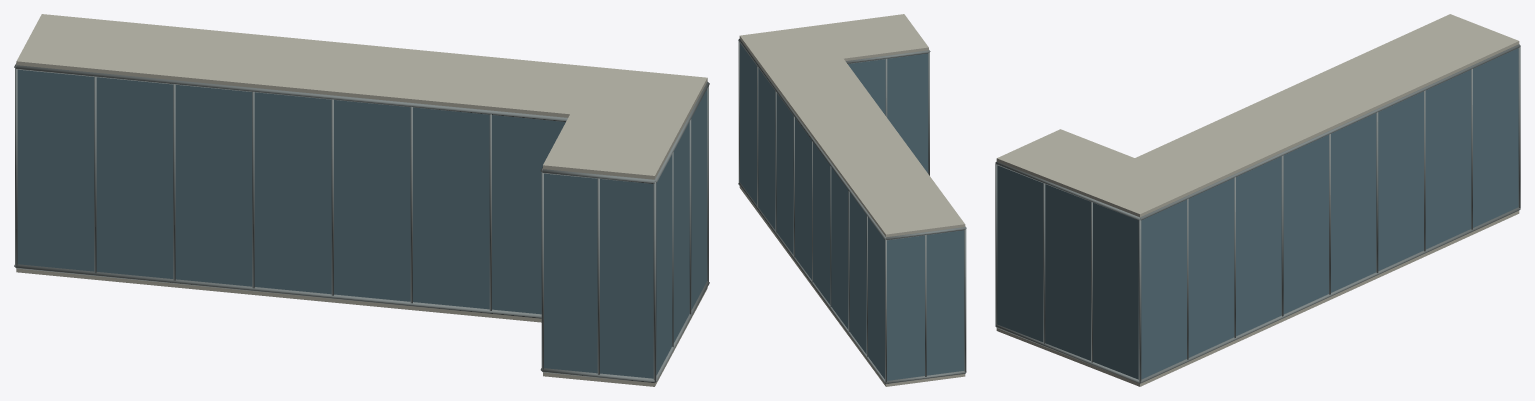
Rendered from connector-v2-v3-lod2.glb.
The picture shows the model from 3 angles, left to right: view 1: azimuth 30°, elevation 25°; view 2: azimuth 150°, elevation 25°; view 3: azimuth 270°, elevation 25°; orthographic projection. The views are drawn at different scales.
Parts seen in each view (by area): view 1: connector-v2-v3_MATERIAL_BATCH; view 2: connector-v2-v3_MATERIAL_BATCH; view 3: connector-v2-v3_MATERIAL_BATCH.
Part boxes in pixels (left/top/right/bottom): connector-v2-v3_MATERIAL_BATCH: left=14, top=14, right=709, bottom=386; connector-v2-v3_MATERIAL_BATCH: left=738, top=14, right=966, bottom=386; connector-v2-v3_MATERIAL_BATCH: left=995, top=14, right=1520, bottom=386.
Size of the model in its own units: 13.19 by 5.27 by 14.53.
